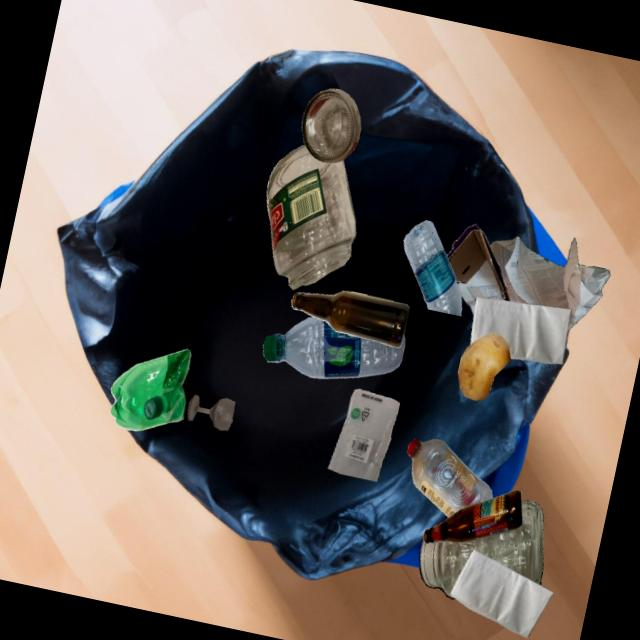biowaste: (457, 332, 510, 400)
cardboard: (446, 223, 510, 301)
glass: (266, 144, 355, 290), (419, 500, 543, 599), (291, 291, 409, 347), (423, 490, 522, 544), (301, 88, 360, 162), (187, 394, 235, 430)
paper: (489, 236, 610, 330), (450, 549, 553, 638), (470, 297, 571, 364)
plastic: (263, 316, 405, 378), (327, 389, 399, 482), (407, 439, 492, 517), (110, 349, 190, 431), (403, 220, 461, 316)
